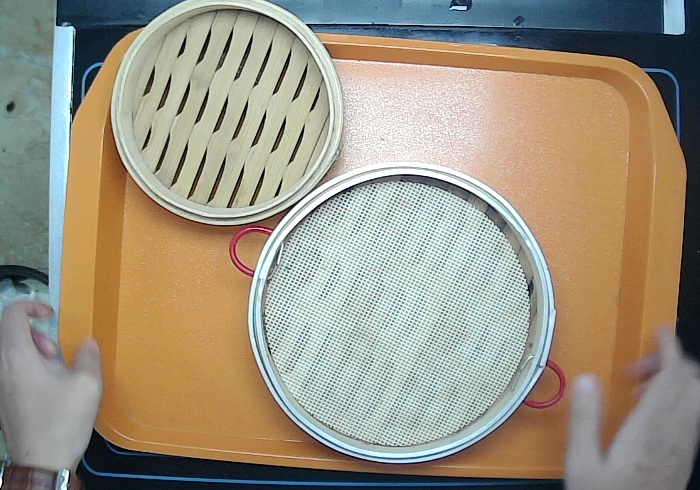ZNLD-Da_Zheng_Long: (228, 159, 570, 465)
ZNLD-Xiao_Zheng_Long: (109, 1, 346, 227)
